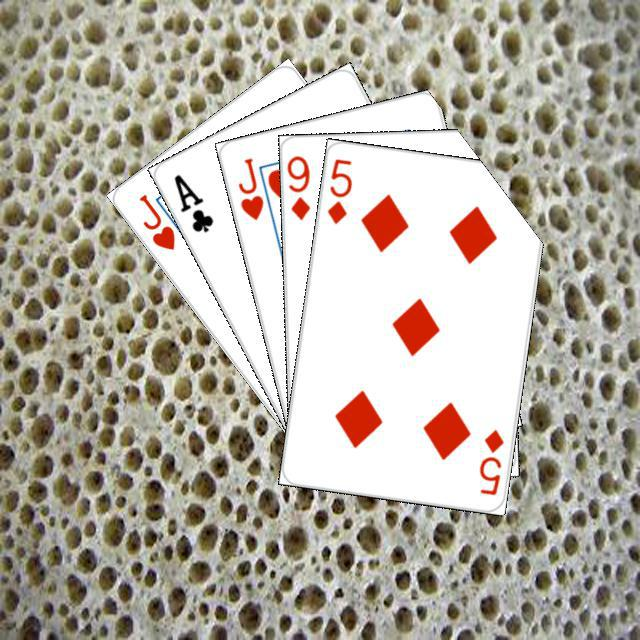5d: (322, 153, 354, 226), (474, 424, 506, 497)
9d: (284, 151, 311, 222)
Ac: (169, 169, 216, 235)
Jh: (134, 189, 177, 252), (233, 152, 265, 222)
